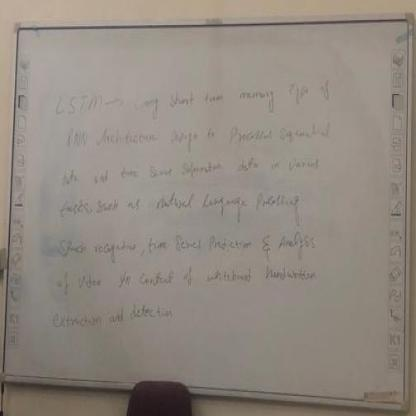Handwritten text: (49, 70, 341, 119), (52, 147, 328, 194), (53, 116, 341, 154), (51, 261, 319, 299), (52, 226, 319, 264), (53, 189, 309, 224), (42, 299, 178, 351)
Whiteboard: (9, 17, 410, 409)
